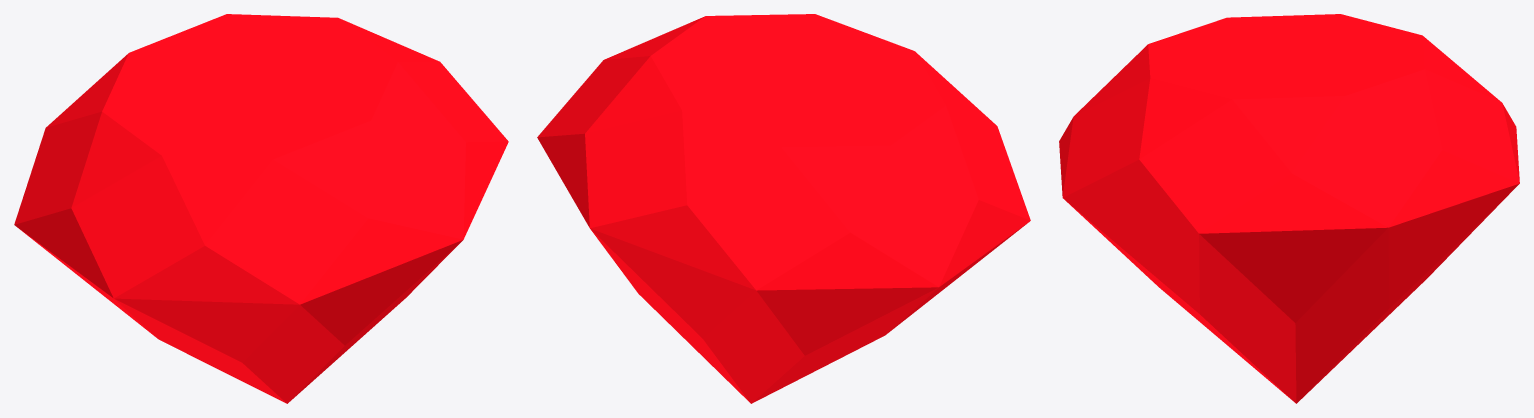
3 renders of one model, left to right at view 1: azimuth 30°, elevation 25°; view 2: azimuth 150°, elevation 25°; view 3: azimuth 270°, elevation 25°, orthographic.
Parts seen in each view (by area): view 1: Gem; view 2: Gem; view 3: Gem.
Boxes of the visible parts, left/top/right/bottom form: Gem: left=14, top=14, right=508, bottom=403; Gem: left=537, top=14, right=1030, bottom=403; Gem: left=1059, top=14, right=1519, bottom=403.
Size of the model in its own units: 271 by 224 by 272.
